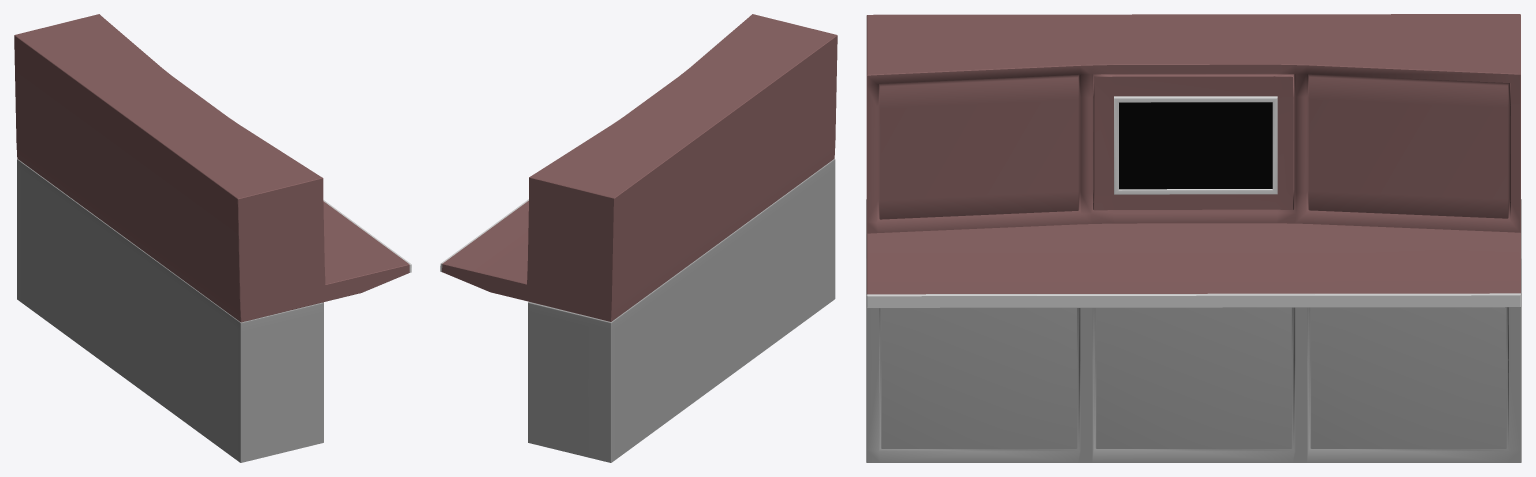
The picture shows the model from 3 angles, left to right: view 1: azimuth 30°, elevation 25°; view 2: azimuth 150°, elevation 25°; view 3: azimuth 270°, elevation 25°; orthographic projection. The views are drawn at different scales.
Visible parts, largest first — view 1: pCube7; view 2: pCube7; view 3: pCube7.
Part boxes in pixels (bbox=[...]): pCube7: bbox=[14, 14, 411, 462]; pCube7: bbox=[440, 14, 837, 462]; pCube7: bbox=[866, 14, 1521, 462].
Bounding box in the file's own units: 2.08 × 3.05 × 4.64.
